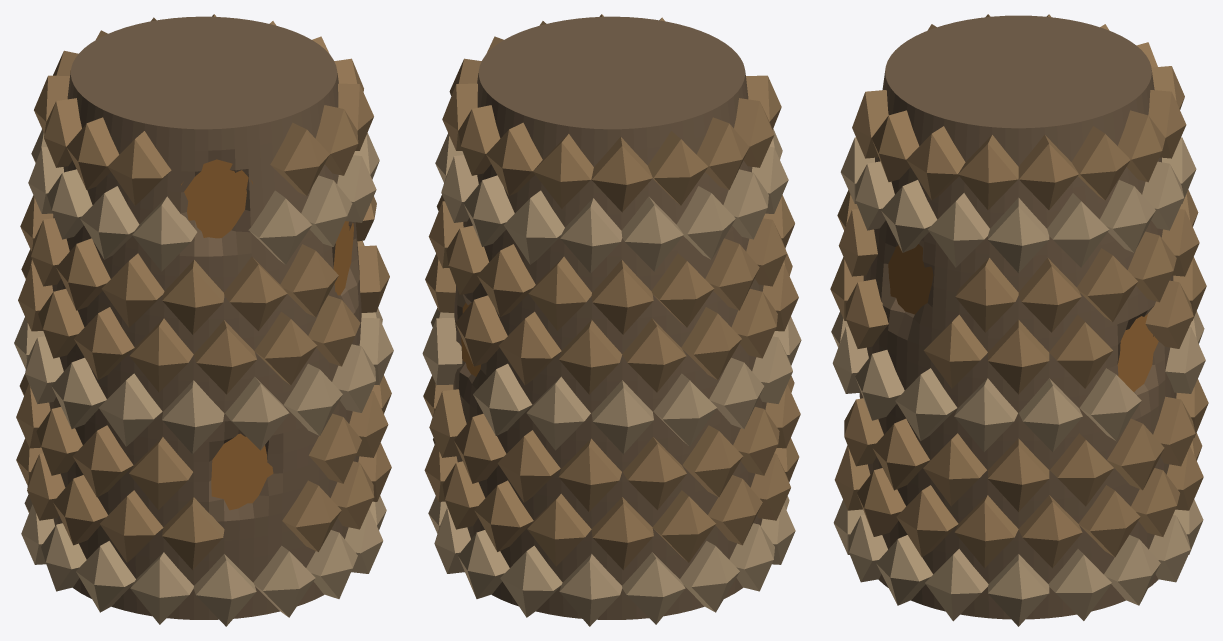
3 views of the same model, side by side, from view 1: azimuth 30°, elevation 25°; view 2: azimuth 150°, elevation 25°; view 3: azimuth 270°, elevation 25° (orthographic).
Visible parts, largest first — view 1: staggered_leaf_base_armor.001, trunk_core_recessed_sites, staggered_leaf_base_armor, embedded_reproductive_recesses; view 2: staggered_leaf_base_armor.001, trunk_core_recessed_sites, staggered_leaf_base_armor; view 3: staggered_leaf_base_armor.001, trunk_core_recessed_sites, staggered_leaf_base_armor, embedded_reproductive_recesses.
Part boxes in pixels (x1,y1,x2,y2): staggered_leaf_base_armor.001: (16, 14, 391, 570); trunk_core_recessed_sites: (49, 16, 361, 619); staggered_leaf_base_armor: (14, 129, 393, 626); embedded_reproductive_recesses: (181, 159, 353, 510); staggered_leaf_base_armor.001: (423, 14, 800, 570); trunk_core_recessed_sites: (453, 16, 766, 619); staggered_leaf_base_armor: (422, 129, 801, 626); staggered_leaf_base_armor.001: (830, 14, 1208, 568); trunk_core_recessed_sites: (859, 15, 1176, 619); staggered_leaf_base_armor: (831, 137, 1205, 626); embedded_reproductive_recesses: (888, 244, 1158, 391).
Bounding box in the file's own units: 0.8552 × 1.2 × 0.8509.
